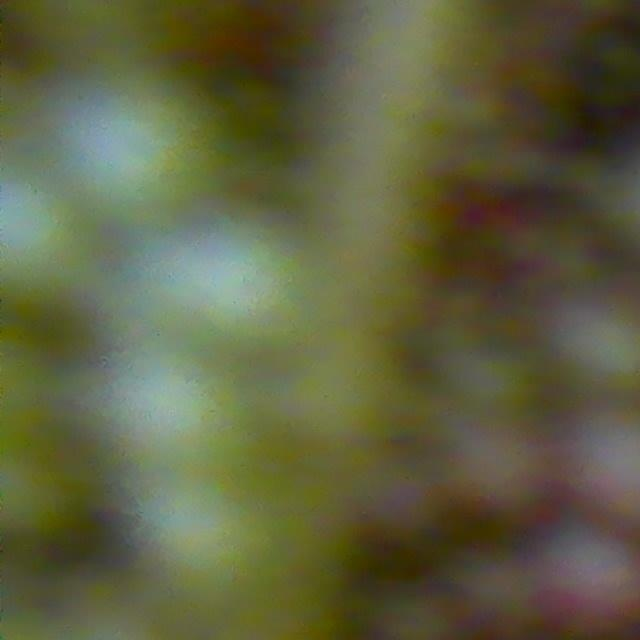SeaGrape: (87, 235, 308, 377), (13, 69, 204, 226), (92, 353, 246, 478), (131, 472, 273, 584), (0, 183, 94, 309), (546, 529, 640, 633), (374, 590, 456, 640)
